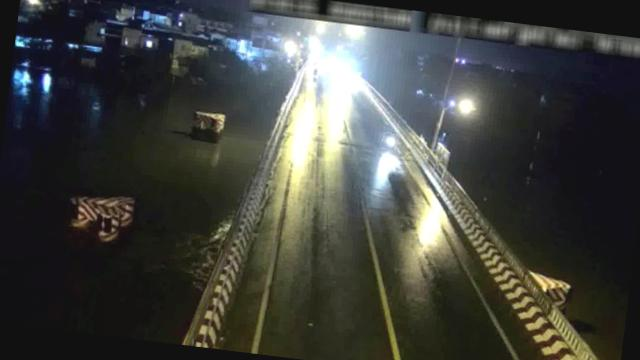Bike: (381, 132, 398, 150)
